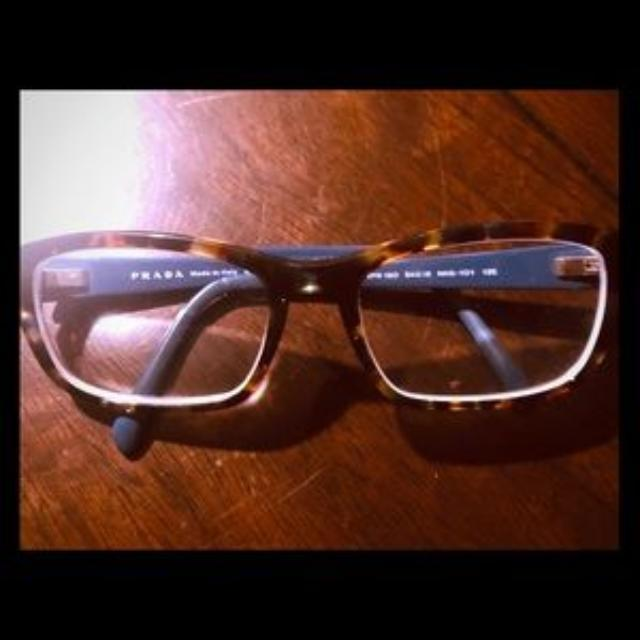glasses: (19, 212, 626, 460)
